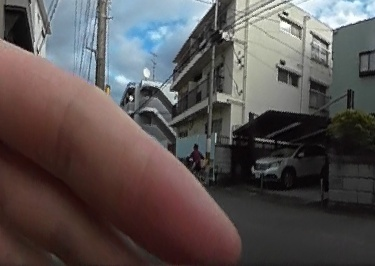person: (188, 142, 205, 172)
